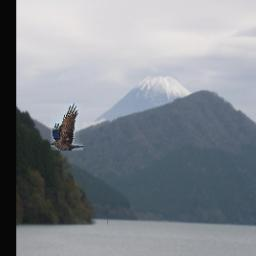Crow: (51, 104, 83, 152)
